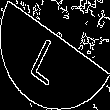L_NE: (34, 25, 76, 85)
